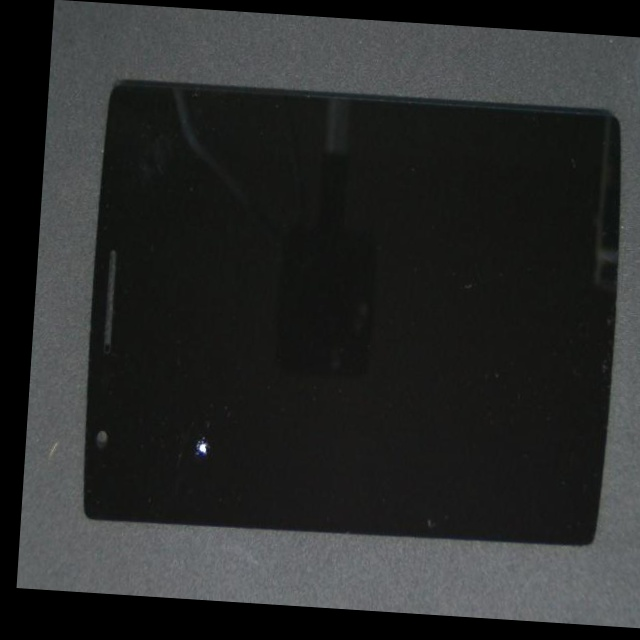stain: (66, 214, 293, 604)
